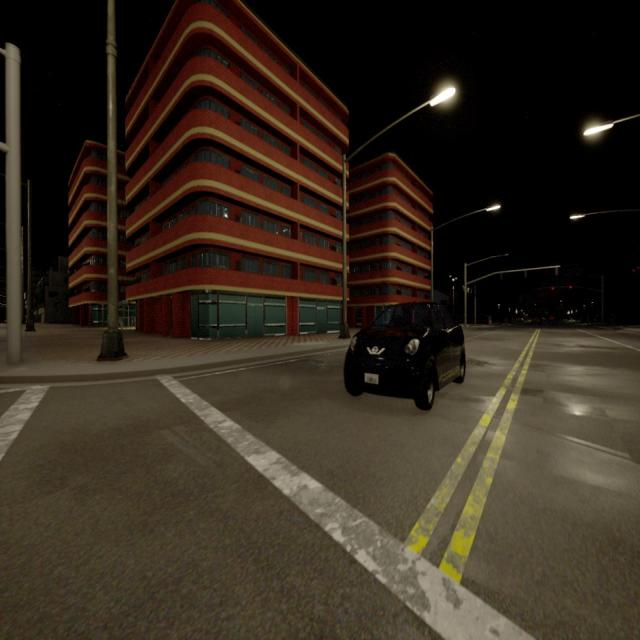Vehicle: (344, 303, 465, 409)
traffic_light: (500, 273, 503, 280), (524, 270, 526, 278), (556, 268, 558, 275), (637, 266, 640, 270), (632, 269, 635, 272), (569, 286, 572, 289), (552, 287, 554, 290)
